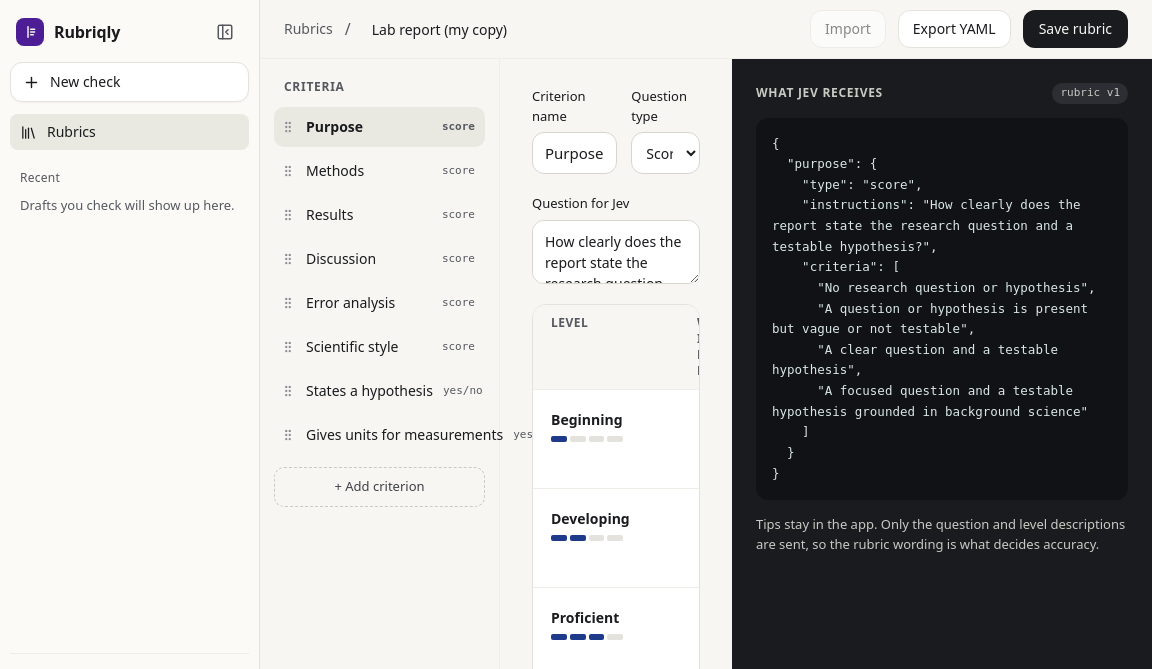
Scenario: Rubric builder › saves a copy of a built-in pack as your own rubric
The image size is (1152, 669).
Click the button "Save rubric": (1075, 29) [1023, 10, 1128, 48]
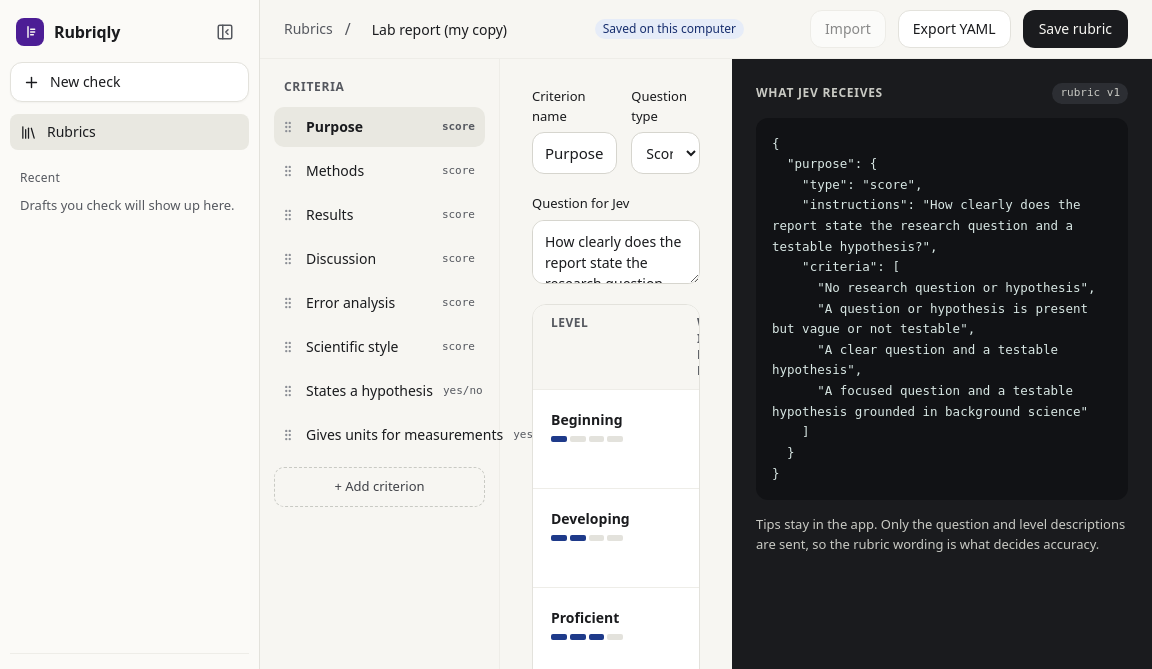
Result: the text "Saved on this computer" is shown at [595, 19, 744, 39]
